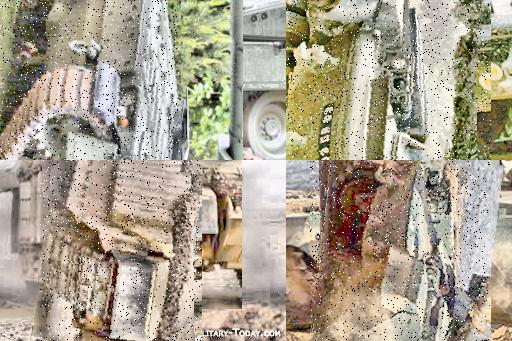tanks: (313, 161, 491, 341), (287, 1, 487, 161), (41, 161, 203, 341), (1, 1, 181, 161), (217, 1, 244, 161)
